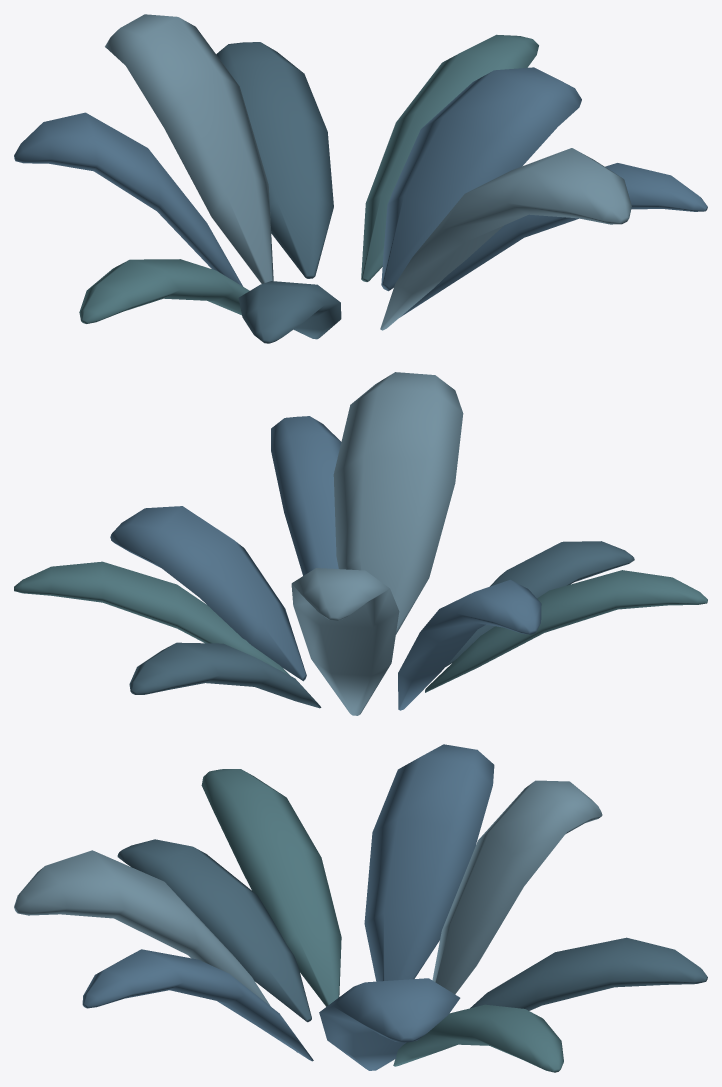
File: low_clump_01.glb
3 views of the same model, one above another, from view 1: azimuth 30°, elevation 25°; view 2: azimuth 150°, elevation 25°; view 3: azimuth 270°, elevation 25° (orthographic). The views are drawn at different scales.
Parts seen in each view (by area): view 1: low_clump_01; view 2: low_clump_01; view 3: low_clump_01.
Part boxes in pixels (bbox=[...]): low_clump_01: bbox=[14, 14, 707, 343]; low_clump_01: bbox=[14, 372, 707, 715]; low_clump_01: bbox=[14, 744, 707, 1072].
Size of the model in its own units: 0.8959 by 0.3114 by 0.897.
